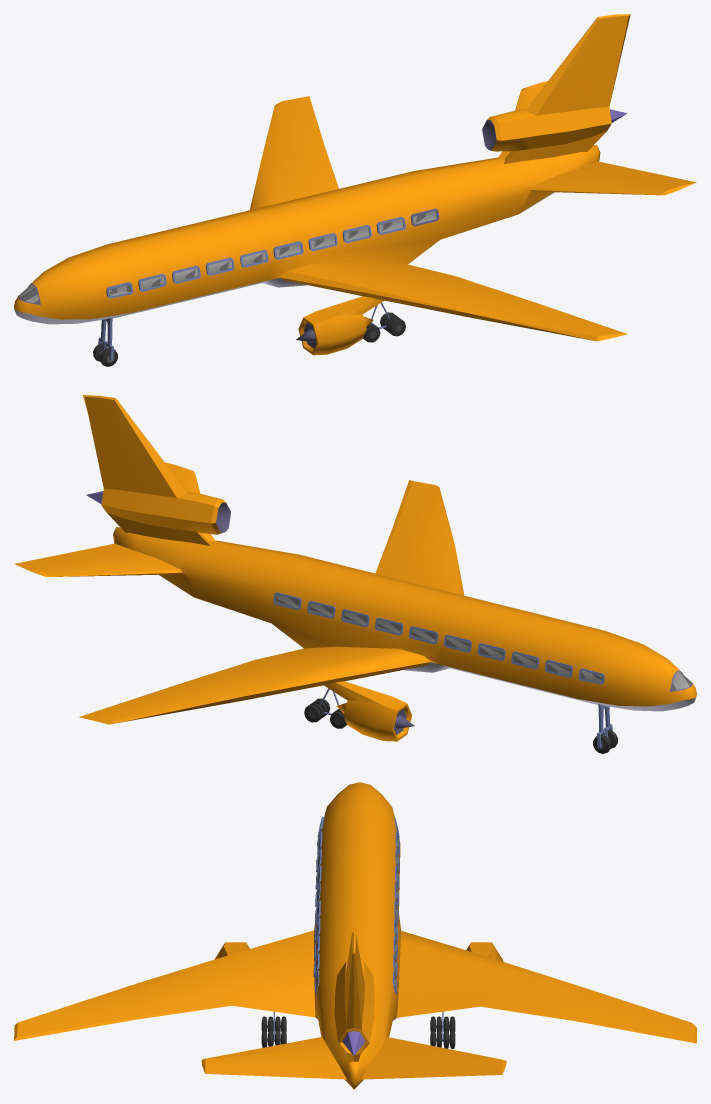
3 views of the same model, one above another, from view 1: azimuth 30°, elevation 25°; view 2: azimuth 150°, elevation 25°; view 3: azimuth 270°, elevation 25° (orthographic). The views are drawn at different scales.
Visible parts, largest first — view 1: Plane_3_B; view 2: Plane_3_B; view 3: Plane_3_B.
Part boxes in pixels (bbox=[...]): Plane_3_B: bbox=[14, 14, 696, 366]; Plane_3_B: bbox=[14, 395, 696, 753]; Plane_3_B: bbox=[14, 782, 696, 1089].
Bounding box in the file's own units: 2712 × 969 × 2481.
